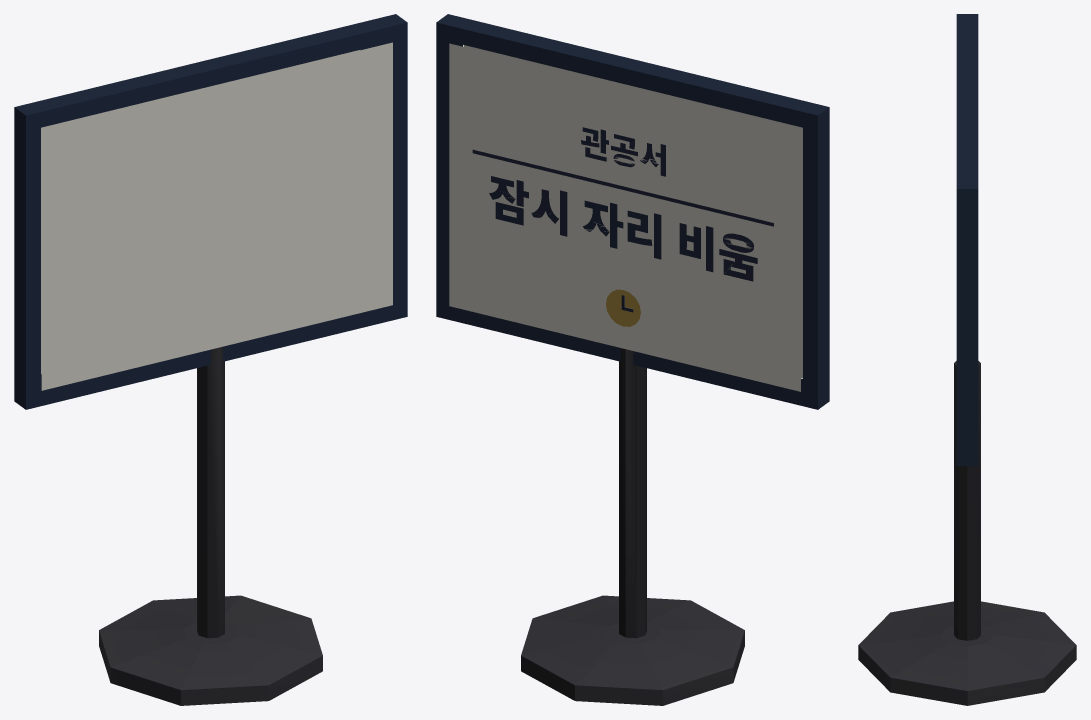
The model's file is sign_away_low.glb.
The picture shows the model from 3 angles, left to right: view 1: azimuth 30°, elevation 25°; view 2: azimuth 150°, elevation 25°; view 3: azimuth 270°, elevation 25°; orthographic projection. The views are drawn at different scales.
Visible parts, largest first — view 1: sign_away; view 2: sign_away; view 3: sign_away.
Part boxes in pixels (box(x1,y1,x2,y2)): sign_away: box(14, 14, 407, 705); sign_away: box(436, 14, 829, 705); sign_away: box(858, 14, 1076, 705).
Bounding box in the file's own units: 0.76 × 1.13 × 0.4.
